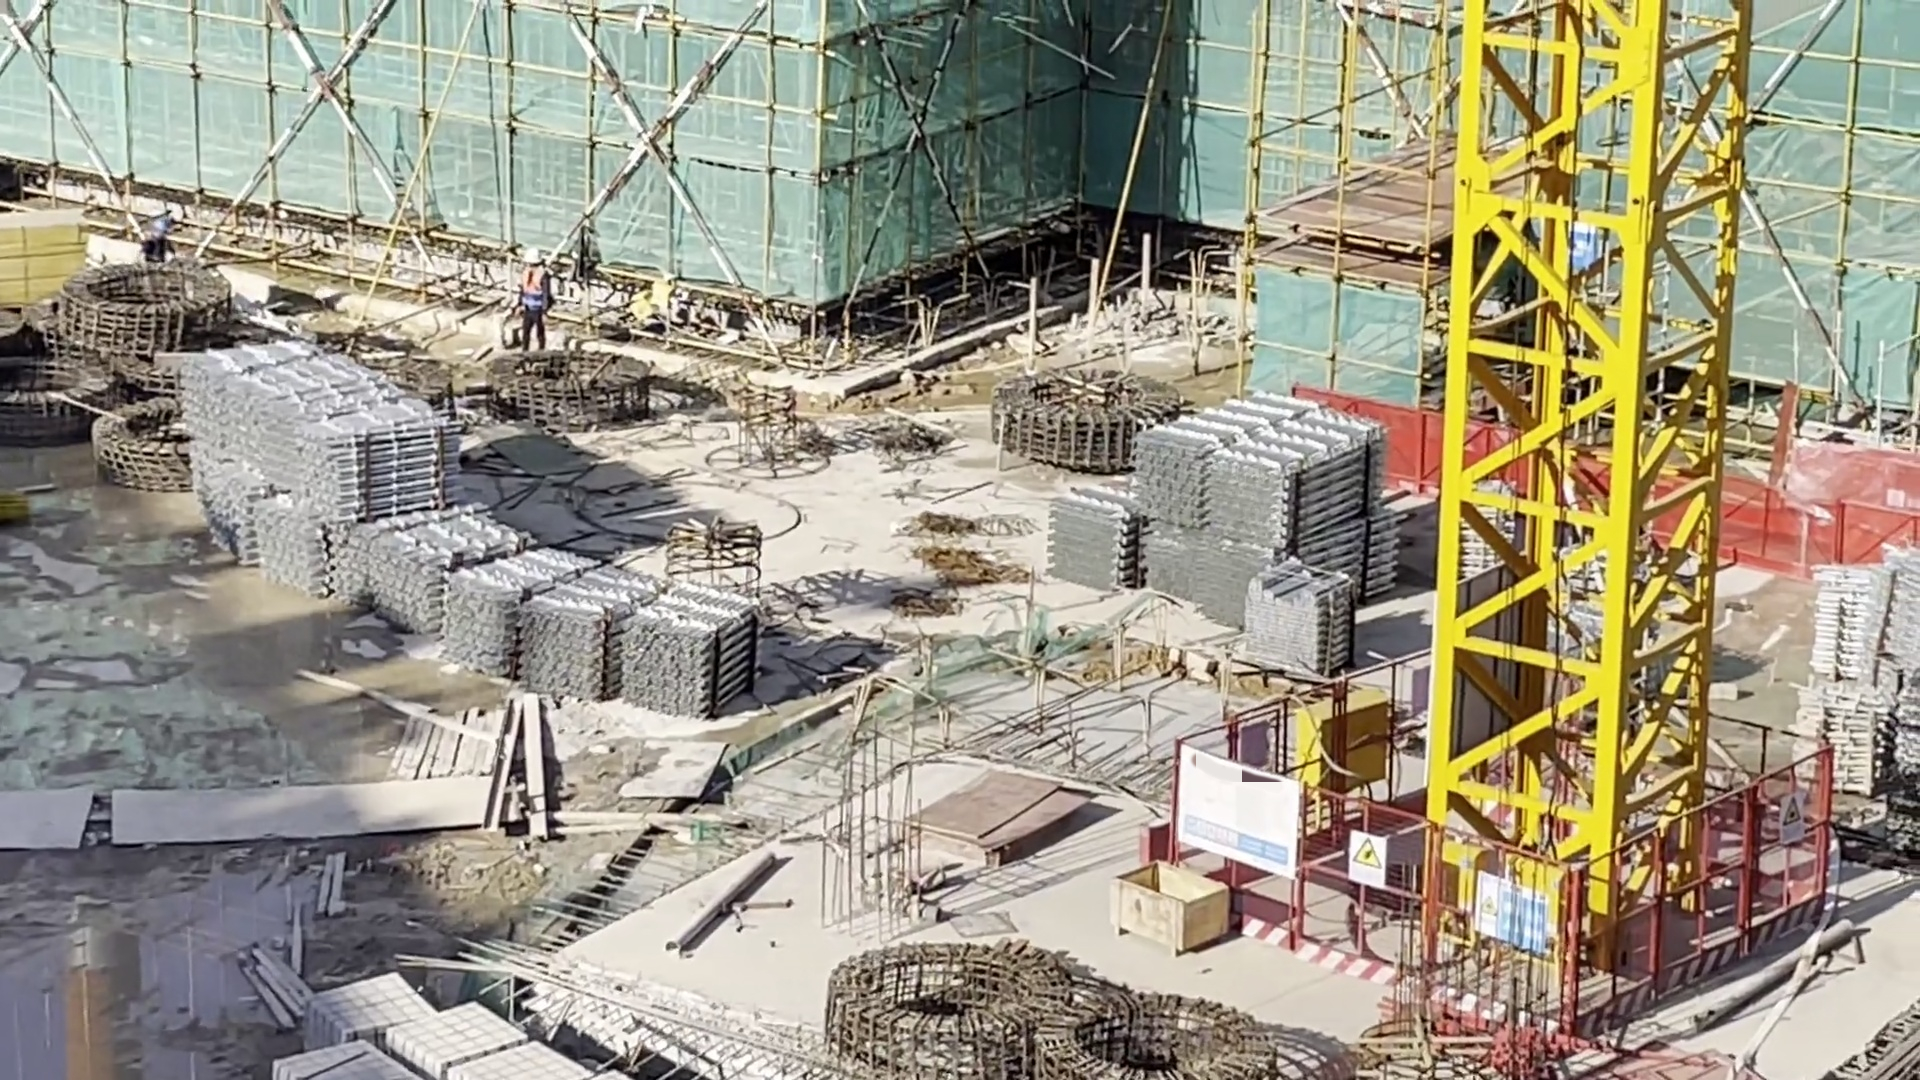board: (920, 783, 1079, 866), (1, 201, 90, 299)
brick: (294, 995, 579, 1073)
ebox: (1304, 693, 1392, 788)
fence: (1716, 439, 1919, 583), (1317, 388, 1440, 483)
helmet: (522, 248, 541, 264)
person: (509, 247, 550, 354)
scaffold: (179, 345, 462, 589), (1140, 393, 1398, 615), (447, 546, 670, 700), (1802, 554, 1886, 806), (377, 518, 531, 647), (621, 591, 758, 718), (1055, 469, 1151, 603), (1247, 564, 1356, 677)
slogan: (1477, 877, 1547, 964), (1347, 835, 1388, 884), (1777, 796, 1808, 842)
vest: (517, 270, 543, 300)
